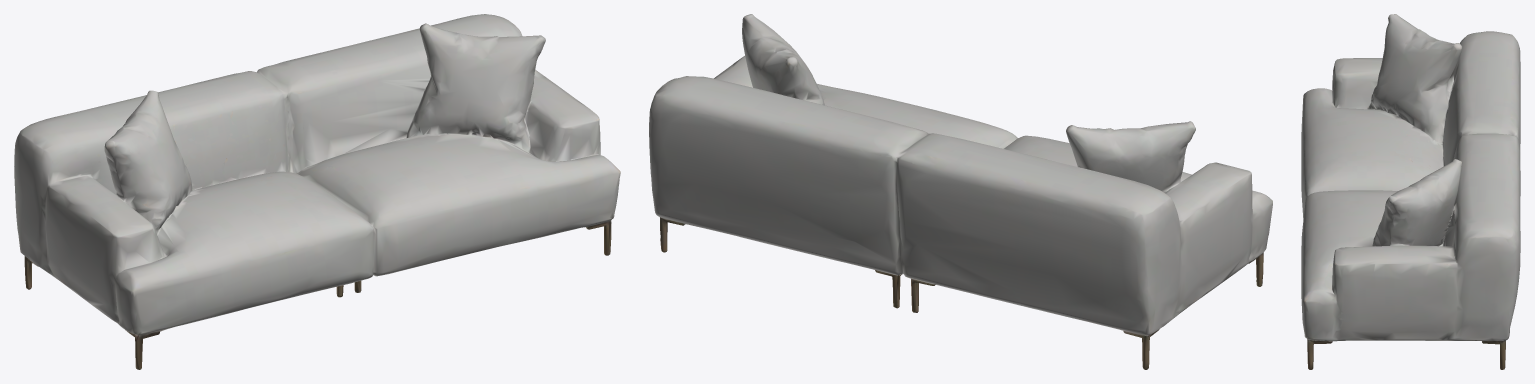
File: K9eg8L6aMpfeHZvu1iLgw.glb
The picture shows the model from 3 angles, left to right: view 1: azimuth 30°, elevation 25°; view 2: azimuth 150°, elevation 25°; view 3: azimuth 270°, elevation 25°; orthographic projection. The views are drawn at different scales.
Visible parts, largest first — view 1: geometry_0; view 2: geometry_0; view 3: geometry_0.
Boxes of the visible parts, box(x1,y1,x2,y2) form: geometry_0: box(14, 14, 620, 369); geometry_0: box(649, 14, 1272, 369); geometry_0: box(1301, 14, 1520, 369).
Bounding box in the file's own units: 1 × 0.3779 × 0.4451.
Materials: 1 (1 with a texture image).
